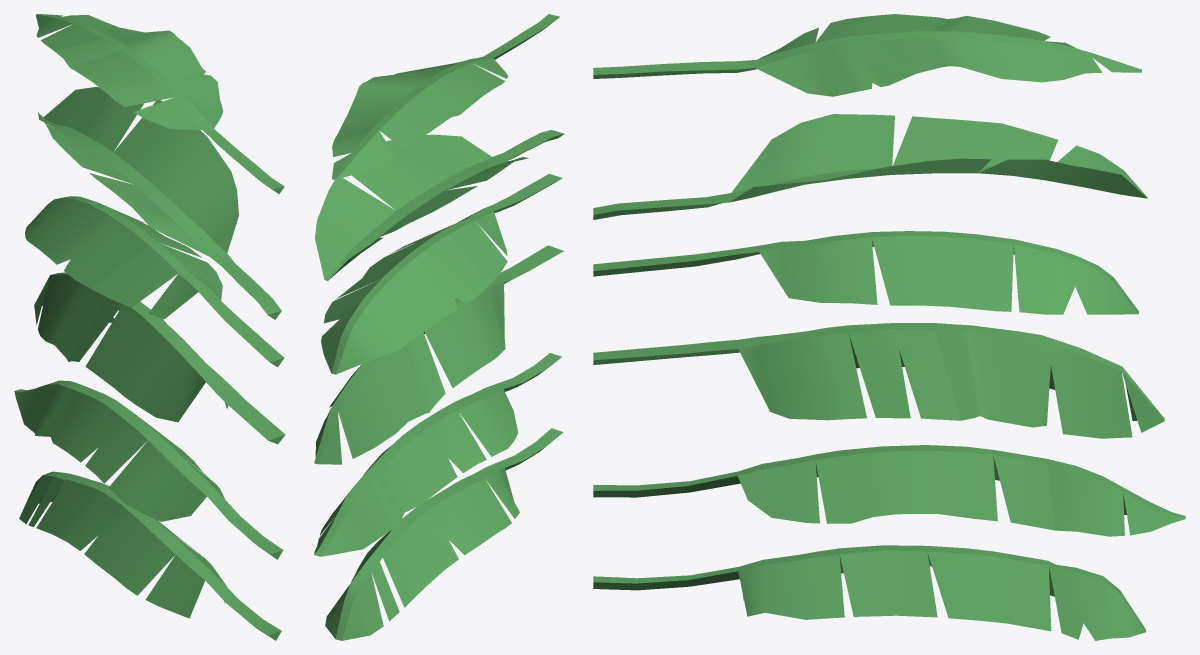
File: plant_palm_sillouettes_A.fbx
3 renders of one model, left to right at view 1: azimuth 30°, elevation 25°; view 2: azimuth 150°, elevation 25°; view 3: azimuth 270°, elevation 25°, orthographic. The views are drawn at different scales.
Parts seen in each view (by area): view 1: plant_palm_sillouette_B, plant_palm_sillouette_D, plant_palm_sillouette_E, plant_palm_sillouette_C, plant_palm_sillouette_F, plant_palm_sillouette_A; view 2: plant_palm_sillouette_C, plant_palm_sillouette_D, plant_palm_sillouette_E, plant_palm_sillouette_F, plant_palm_sillouette_B, plant_palm_sillouette_A; view 3: plant_palm_sillouette_D, plant_palm_sillouette_E, plant_palm_sillouette_F, plant_palm_sillouette_C, plant_palm_sillouette_B, plant_palm_sillouette_A.
Part boxes in pixels (x1=…): plant_palm_sillouette_B: x1=38, y1=87, x2=281, y2=319; plant_palm_sillouette_D: x1=34, y1=272, x2=285, y2=444; plant_palm_sillouette_E: x1=14, y1=380, x2=283, y2=559; plant_palm_sillouette_C: x1=25, y1=196, x2=283, y2=367; plant_palm_sillouette_F: x1=19, y1=471, x2=281, y2=640; plant_palm_sillouette_A: x1=35, y1=14, x2=284, y2=193; plant_palm_sillouette_C: x1=321, y1=173, x2=562, y2=374; plant_palm_sillouette_D: x1=314, y1=245, x2=563, y2=464; plant_palm_sillouette_E: x1=314, y1=353, x2=561, y2=556; plant_palm_sillouette_F: x1=325, y1=428, x2=563, y2=640; plant_palm_sillouette_B: x1=315, y1=130, x2=564, y2=280; plant_palm_sillouette_A: x1=332, y1=14, x2=559, y2=179; plant_palm_sillouette_D: x1=593, y1=323, x2=1164, y2=438; plant_palm_sillouette_E: x1=593, y1=445, x2=1185, y2=536; plant_palm_sillouette_F: x1=593, y1=545, x2=1146, y2=640; plant_palm_sillouette_C: x1=593, y1=231, x2=1138, y2=314; plant_palm_sillouette_B: x1=593, y1=114, x2=1147, y2=219; plant_palm_sillouette_A: x1=593, y1=14, x2=1141, y2=96.
Bounding box in the file's own units: 41.19 × 175 × 157.
